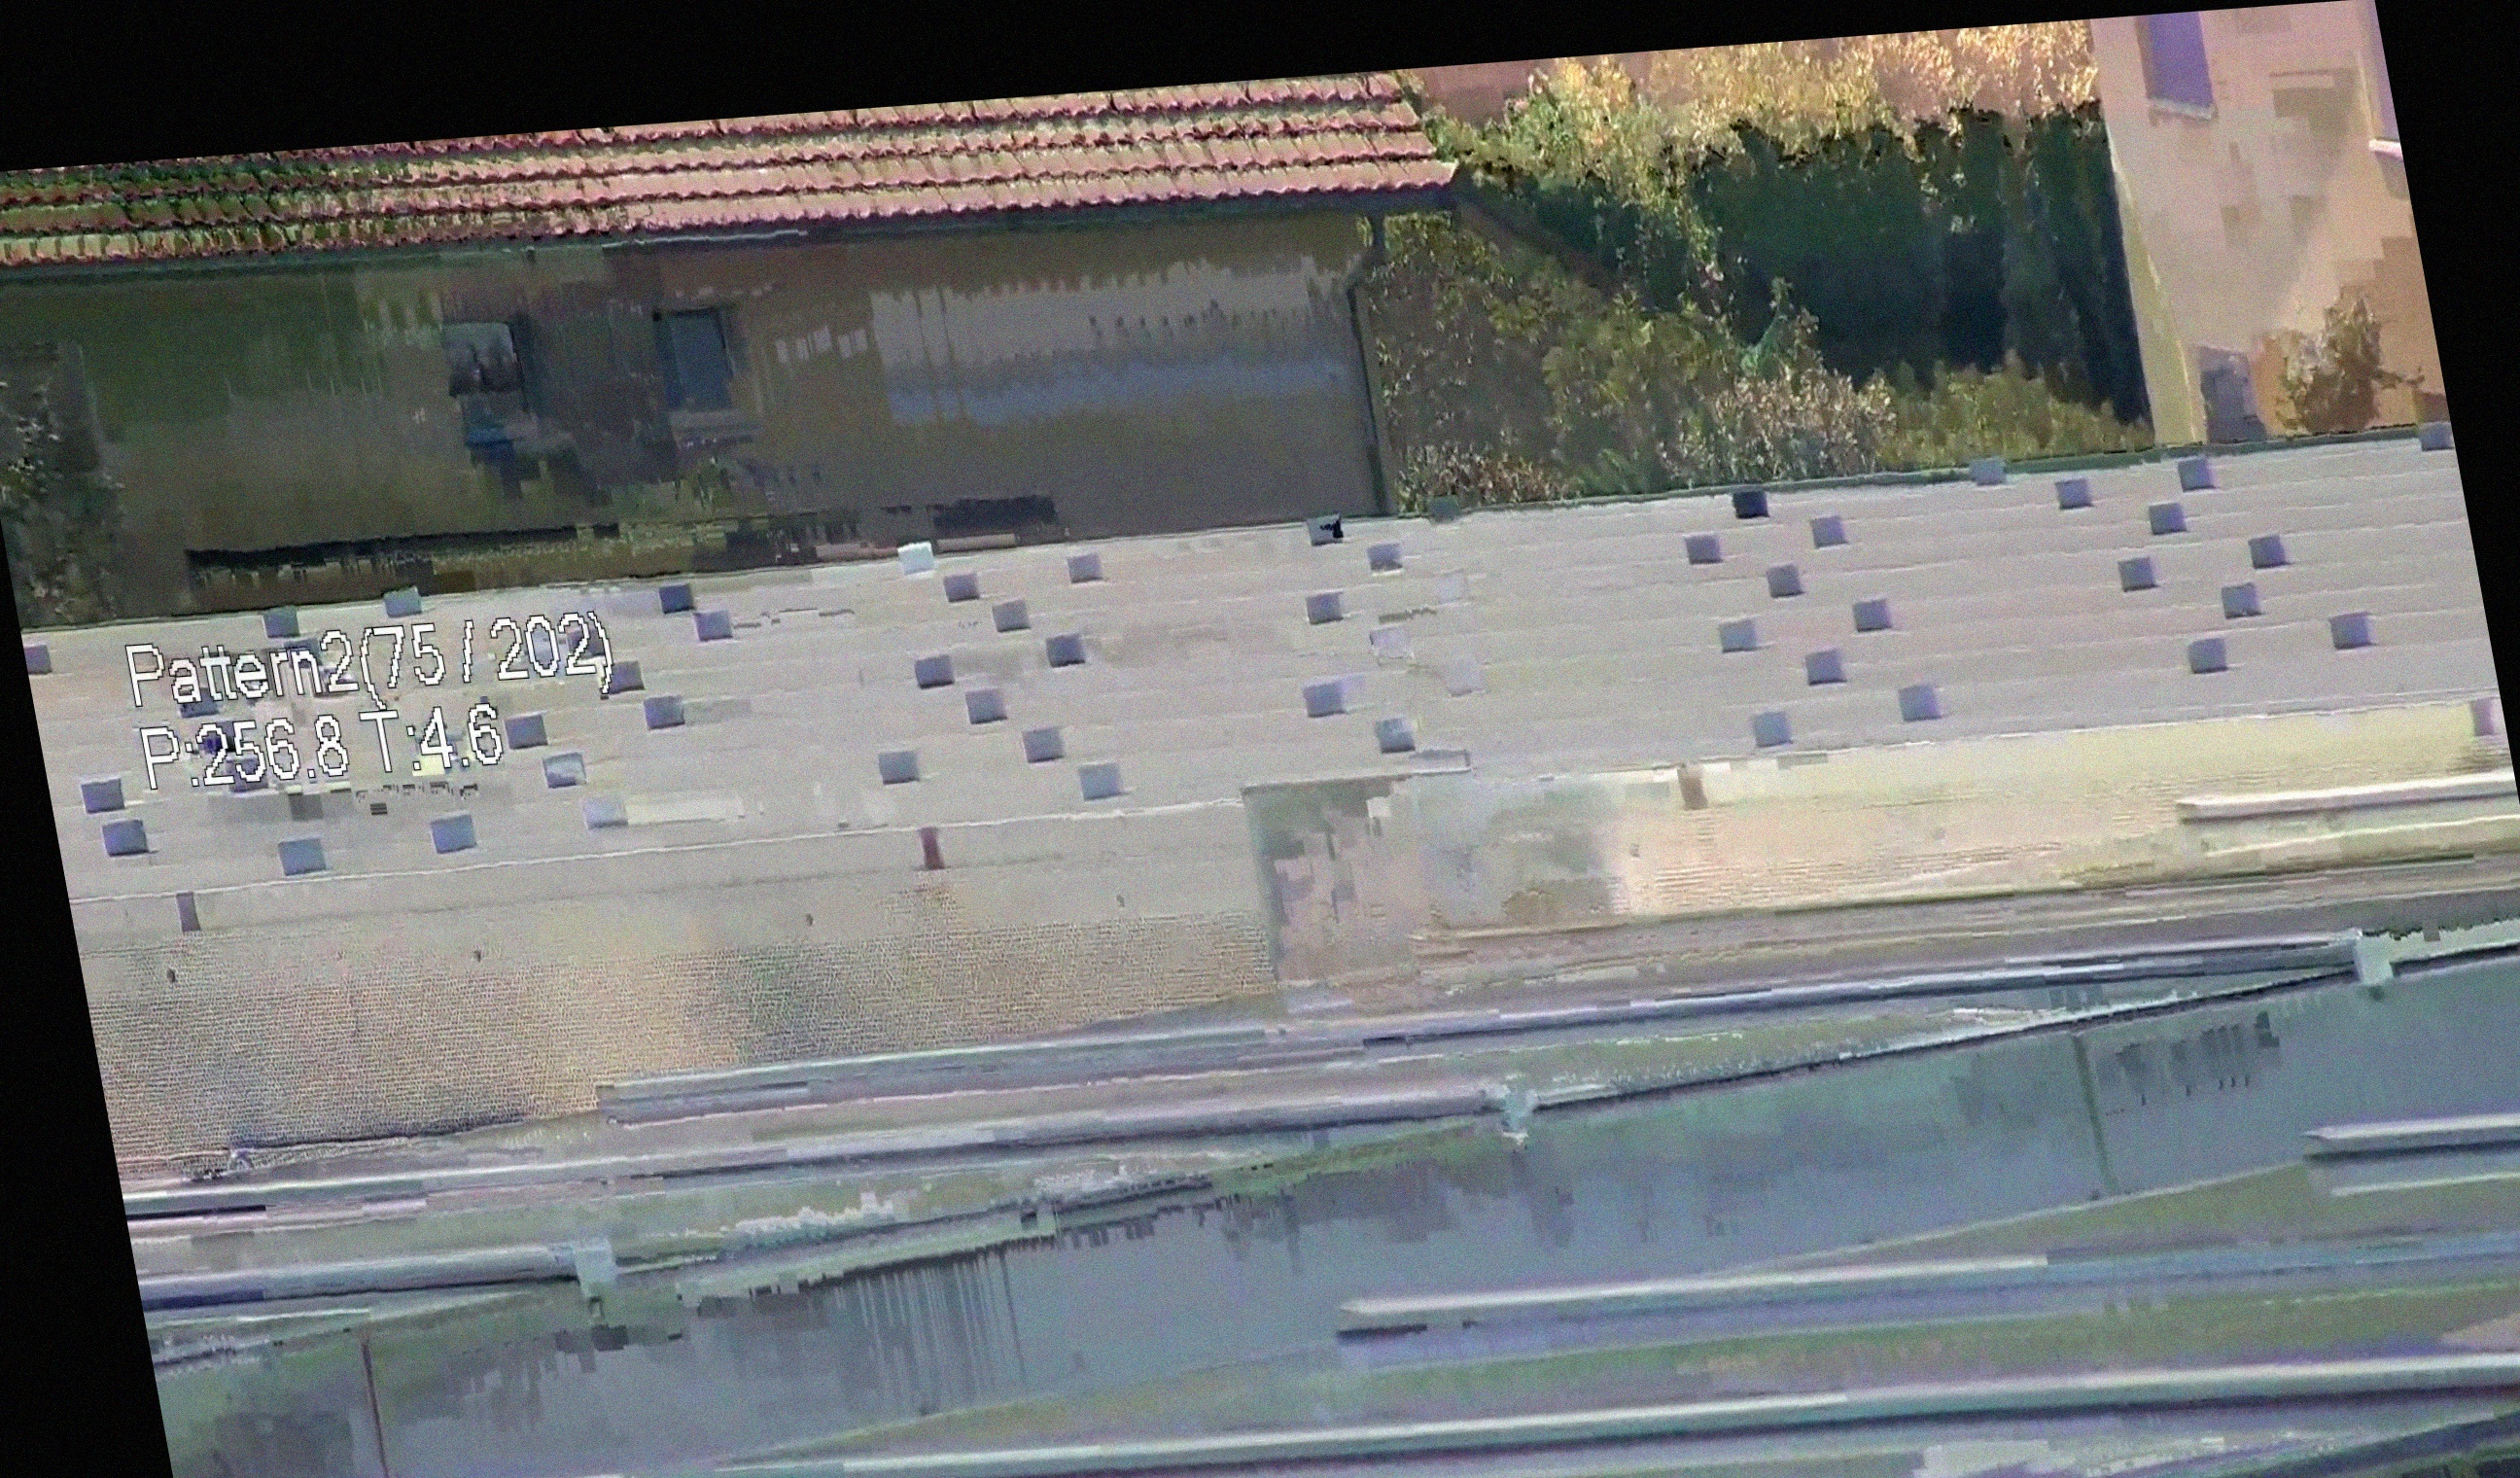Other: (531, 0, 631, 134)
